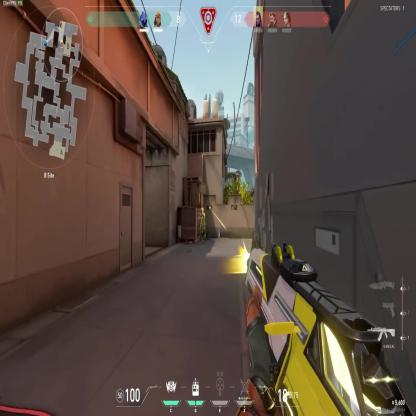enemy: (198, 206, 207, 243)
enemy_head: (201, 207, 204, 213)
